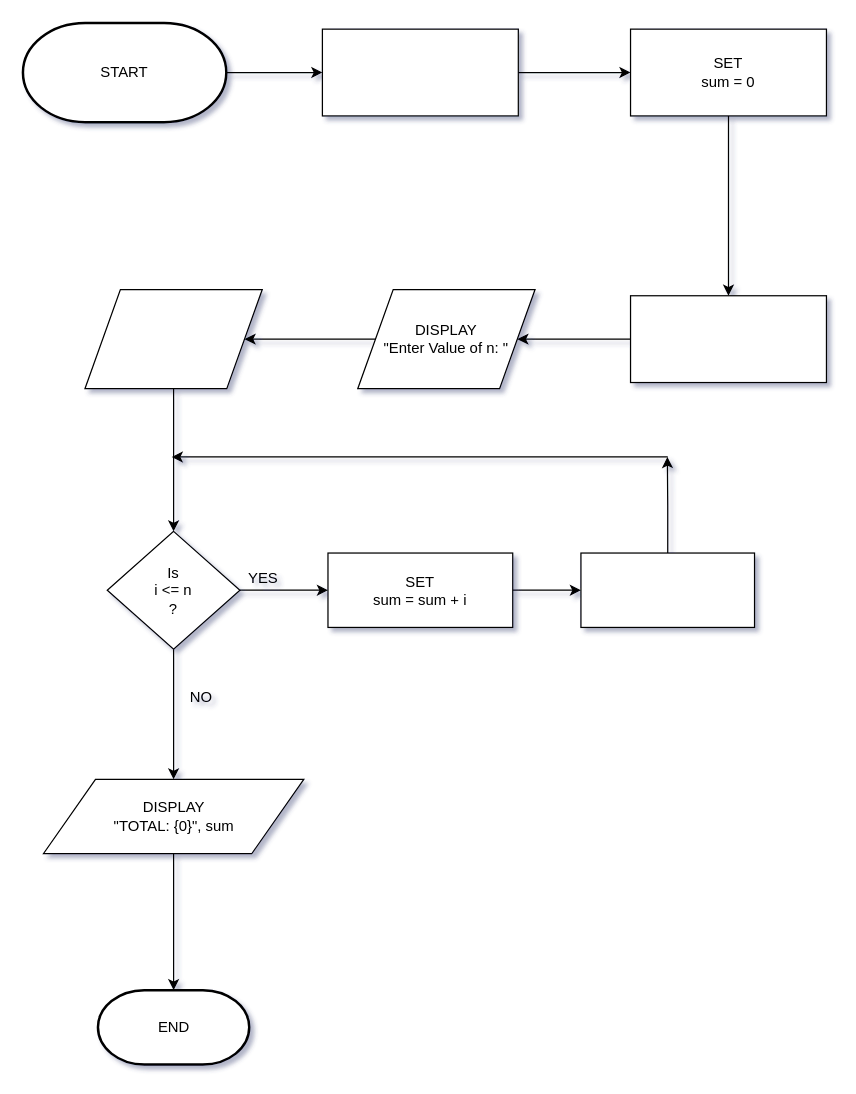
Image size: 856x1094. Some labels were removed from this diagram. The centre of each missing label's shape, as x and y in pixels:
"DECLARE (int) n, sum, i" goes at (419,72).
"INPUT n" goes at (173,338).
"SET i = 1" goes at (727,338).
"SET i = i + 1" goes at (667,589).
